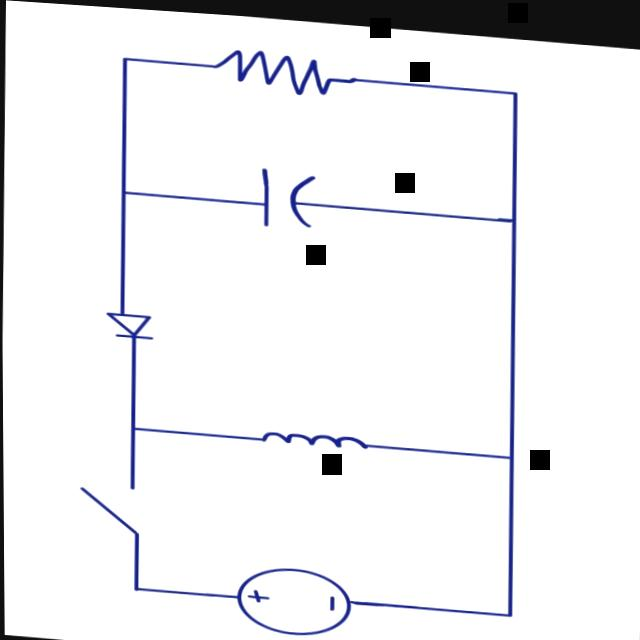capacitor: (222, 149, 348, 251)
diode: (90, 303, 161, 350)
inductor: (238, 398, 392, 469)
resistor: (191, 38, 368, 98)
source: (221, 552, 364, 640)
switch: (62, 462, 164, 543)
